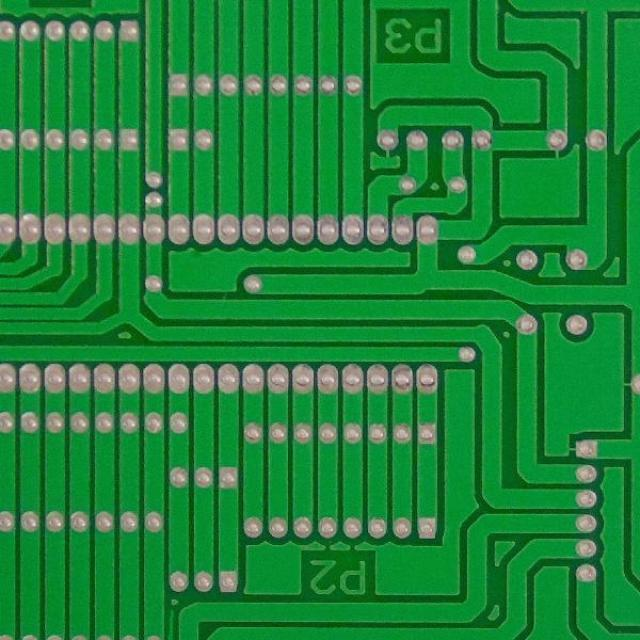Spurious_Cooper: (165, 606, 177, 640)
